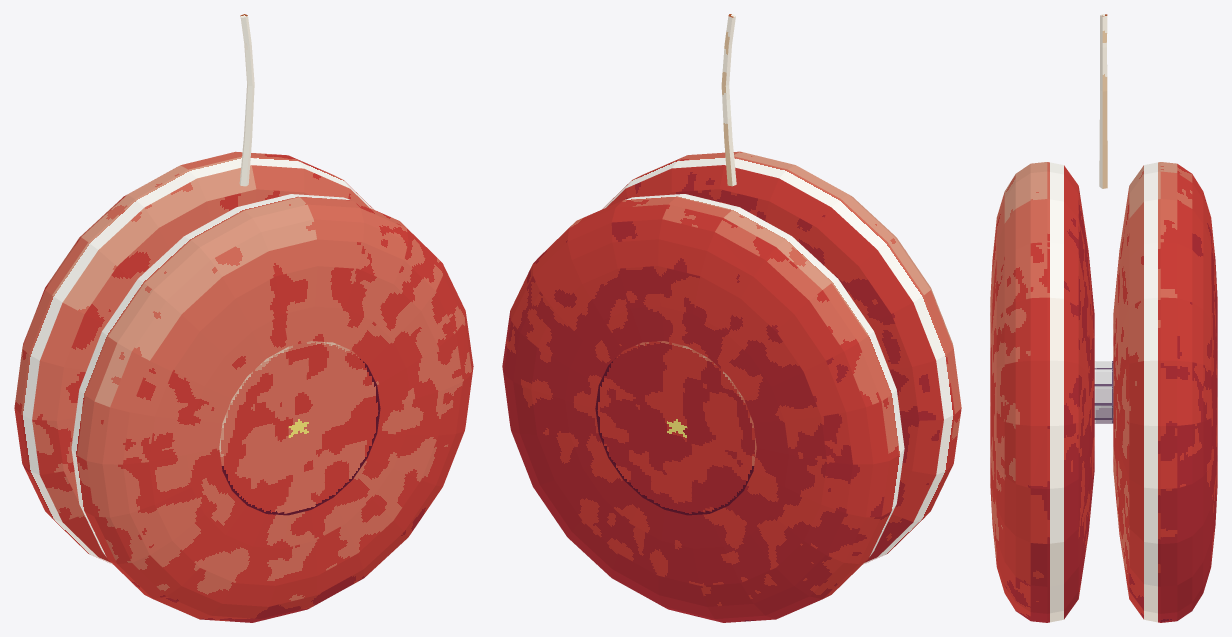
The model's file is yoyo.glb.
The picture shows the model from 3 angles, left to right: view 1: azimuth 30°, elevation 25°; view 2: azimuth 150°, elevation 25°; view 3: azimuth 270°, elevation 25°; orthographic projection.
Visible parts, largest first — view 1: disc_a, disc_b, string; view 2: disc_b, disc_a, string; view 3: disc_a, disc_b, string, axle.
Boxes of the visible parts, bbox=[...] form: disc_a: bbox=[71, 194, 473, 622]; disc_b: bbox=[14, 151, 373, 564]; string: bbox=[239, 14, 254, 186]; disc_b: bbox=[502, 194, 904, 622]; disc_a: bbox=[602, 151, 961, 564]; string: bbox=[721, 14, 736, 186]; disc_a: bbox=[990, 162, 1094, 622]; disc_b: bbox=[1113, 162, 1217, 622]; string: bbox=[1099, 14, 1107, 188]; axle: bbox=[1094, 361, 1113, 423].
Size of the model in its own units: 29 by 40.93 by 14.4.
1 material, 1 textured.
